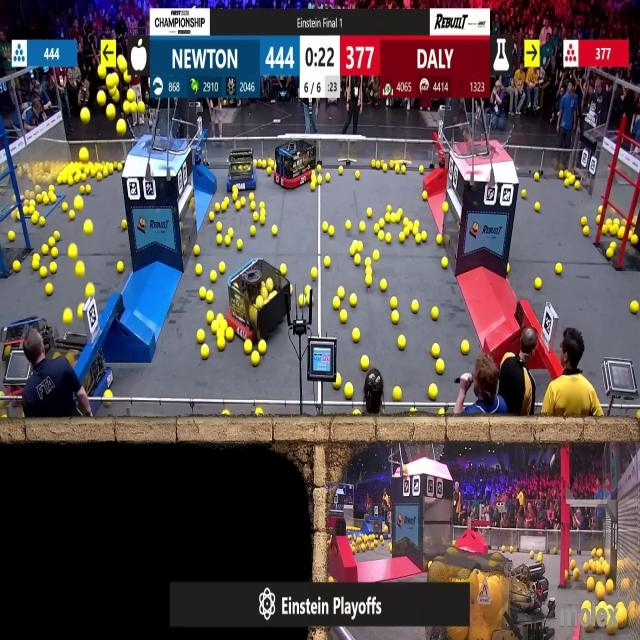ball_airborne: (77, 302, 89, 320), (107, 73, 118, 87), (106, 104, 115, 119), (80, 108, 89, 123), (98, 92, 107, 106), (116, 58, 125, 72), (64, 310, 73, 324), (79, 147, 88, 161), (69, 245, 78, 259), (116, 119, 124, 133), (86, 220, 94, 234), (76, 264, 84, 278), (88, 283, 96, 296), (74, 197, 82, 210), (128, 91, 136, 103), (99, 66, 107, 78), (109, 89, 118, 98), (122, 102, 129, 112), (139, 102, 145, 112), (132, 102, 138, 112), (123, 72, 128, 83)
ball_ground: (617, 610, 628, 630), (596, 585, 606, 600), (344, 384, 354, 398), (606, 623, 616, 636), (360, 356, 369, 370), (461, 341, 469, 355), (393, 386, 401, 400), (202, 345, 210, 359), (428, 385, 436, 399), (435, 359, 443, 373), (251, 352, 259, 366), (258, 342, 266, 355), (431, 345, 439, 358), (352, 328, 360, 341), (225, 330, 233, 343), (605, 582, 613, 595), (397, 337, 404, 351), (341, 310, 348, 324), (412, 302, 420, 314), (630, 302, 638, 314), (380, 280, 388, 292), (198, 332, 206, 344), (244, 342, 252, 354), (206, 290, 214, 302), (588, 579, 595, 592), (218, 264, 226, 275), (32, 261, 40, 272), (631, 236, 639, 247), (556, 264, 563, 276), (534, 278, 541, 290), (431, 308, 438, 320), (350, 294, 357, 306), (218, 339, 225, 351), (390, 296, 397, 308), (12, 262, 19, 274), (603, 564, 610, 576), (210, 272, 218, 282), (392, 311, 398, 324), (339, 287, 346, 298), (323, 256, 330, 267), (207, 312, 214, 323), (116, 263, 123, 274), (40, 268, 47, 279), (211, 322, 218, 333), (619, 228, 626, 239), (312, 268, 318, 280), (443, 256, 449, 268), (280, 265, 286, 277), (327, 224, 333, 236), (348, 247, 356, 256), (584, 600, 592, 609), (49, 264, 56, 274), (45, 284, 52, 294), (364, 277, 371, 287), (223, 237, 230, 247), (354, 254, 361, 264), (606, 249, 613, 259), (398, 234, 405, 244), (435, 236, 442, 246), (374, 250, 381, 260), (421, 233, 428, 243), (571, 569, 578, 579), (194, 266, 200, 277), (250, 224, 256, 235), (386, 234, 392, 245), (200, 288, 206, 299), (237, 240, 243, 251), (69, 210, 75, 221), (337, 375, 342, 388), (254, 410, 262, 418), (598, 601, 606, 609), (105, 390, 112, 399), (363, 256, 370, 265), (394, 213, 401, 222), (50, 247, 56, 257), (192, 245, 198, 255), (42, 245, 48, 255), (359, 221, 365, 231), (250, 202, 256, 212), (365, 208, 371, 218), (379, 232, 385, 242), (55, 232, 61, 242), (216, 222, 222, 232), (584, 225, 590, 235), (335, 300, 341, 310), (422, 190, 428, 200), (32, 214, 38, 224), (252, 212, 258, 222), (416, 235, 422, 245), (380, 218, 386, 228), (583, 216, 589, 226), (356, 240, 362, 250), (68, 178, 74, 188), (33, 195, 39, 205), (227, 227, 232, 238), (346, 220, 352, 229), (8, 233, 14, 242), (322, 222, 328, 231), (62, 203, 68, 212), (402, 216, 408, 225), (601, 225, 607, 234), (43, 197, 49, 206), (24, 207, 30, 216), (273, 225, 278, 235), (259, 214, 264, 224), (444, 203, 449, 213), (121, 219, 126, 229), (237, 202, 242, 212), (217, 236, 222, 246), (585, 563, 590, 573), (222, 411, 229, 418), (48, 239, 54, 247), (534, 173, 540, 181), (609, 242, 615, 250), (214, 204, 220, 212), (217, 313, 223, 321), (325, 174, 331, 182), (386, 205, 392, 213), (414, 220, 420, 228), (87, 185, 93, 193), (385, 214, 391, 222), (233, 192, 239, 200), (312, 175, 318, 183), (588, 625, 594, 633), (596, 207, 602, 215), (534, 203, 539, 212), (259, 202, 264, 211), (39, 217, 44, 226), (79, 185, 84, 194), (241, 199, 246, 208), (372, 223, 377, 232), (564, 181, 569, 190), (310, 186, 316, 193), (596, 216, 602, 223), (395, 167, 401, 174), (365, 269, 371, 276), (420, 167, 425, 175), (522, 189, 527, 197), (249, 192, 254, 200), (400, 167, 405, 175), (574, 182, 579, 190), (306, 286, 311, 294), (570, 560, 575, 568), (298, 295, 302, 305), (405, 226, 410, 234), (559, 171, 564, 179), (50, 194, 55, 202), (383, 165, 388, 173), (305, 296, 310, 304), (564, 569, 569, 577), (98, 173, 103, 181), (48, 184, 53, 192), (370, 161, 375, 169), (80, 174, 85, 182), (537, 554, 542, 562), (269, 160, 274, 168), (356, 171, 360, 180), (210, 212, 214, 221), (354, 411, 360, 417), (440, 410, 445, 417), (340, 168, 345, 175), (222, 199, 227, 206), (328, 576, 333, 583), (268, 168, 272, 176), (568, 550, 572, 557), (388, 160, 392, 167), (506, 266, 509, 275), (554, 547, 558, 553)
goal: (461, 118, 516, 158), (129, 116, 187, 152)
robot_blue: (228, 148, 257, 192), (0, 162, 13, 225)
robot_red: (228, 258, 293, 338), (273, 140, 316, 190)
